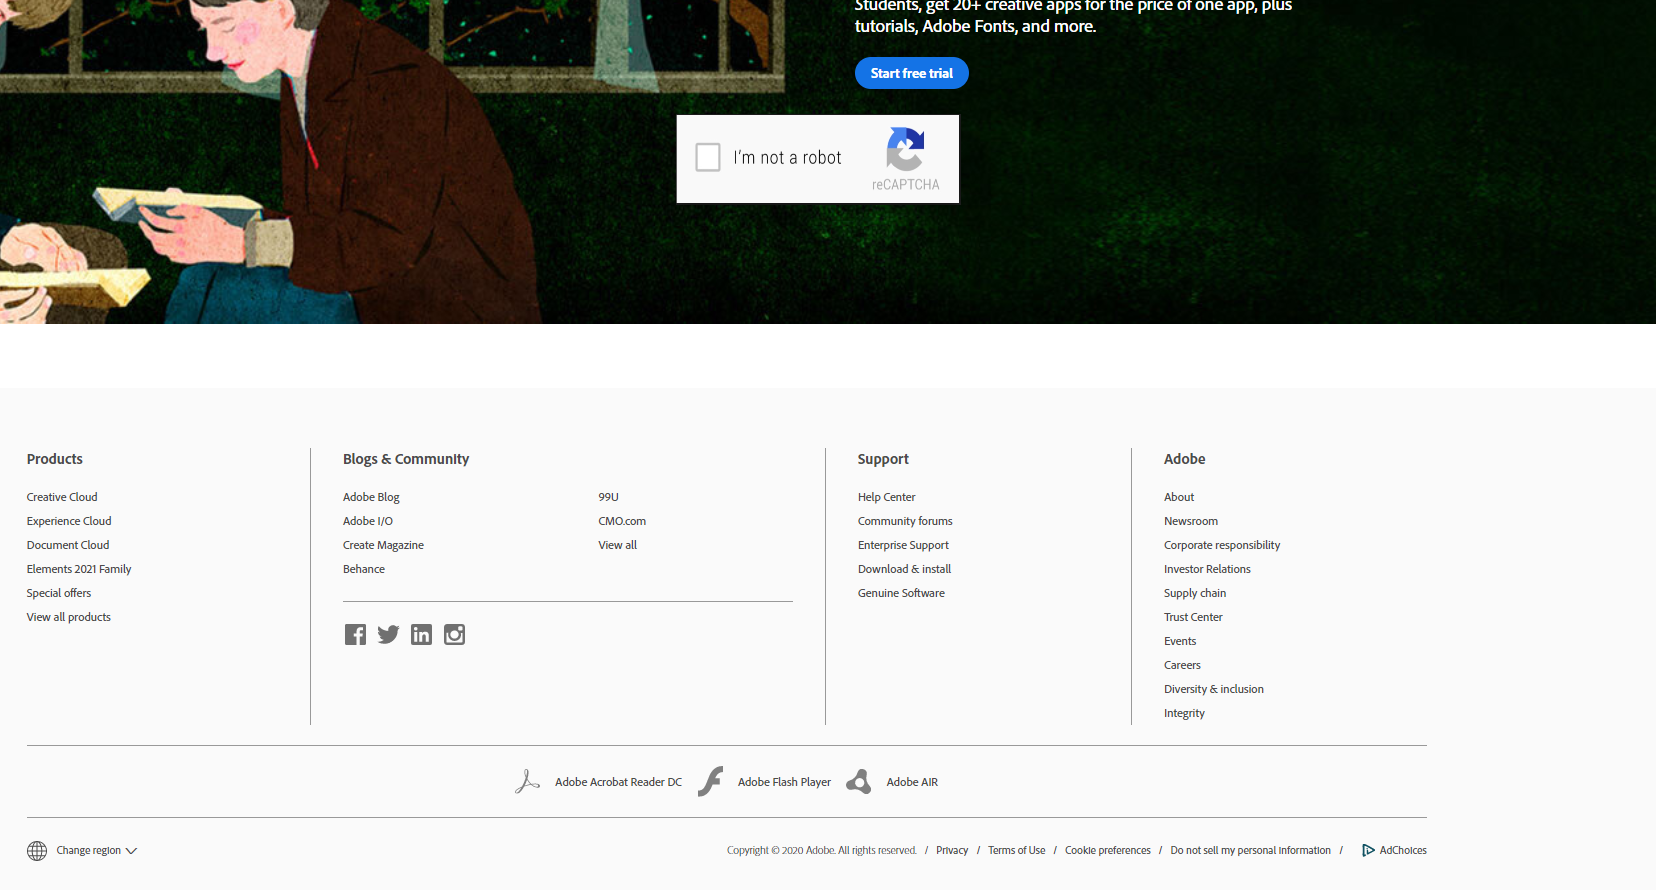captcha: (676, 116, 957, 202)
